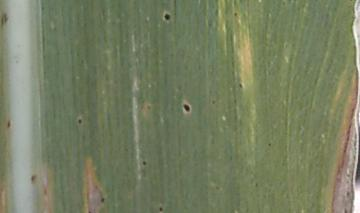tarspot: (179, 101, 195, 115), (161, 10, 174, 24), (138, 156, 149, 169), (97, 194, 107, 206), (75, 115, 84, 127), (156, 204, 166, 213)
